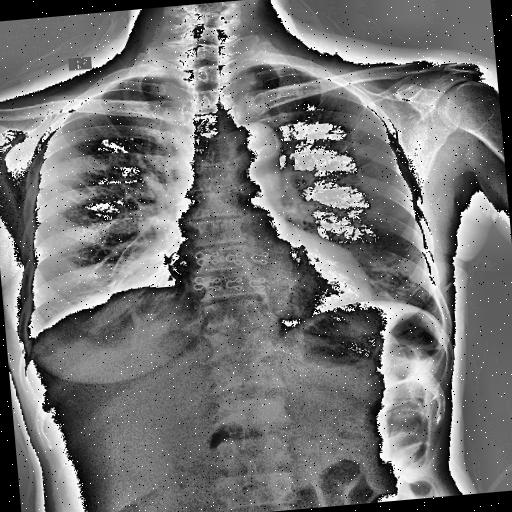0- Aortic enlargement: (220, 121, 284, 188), (220, 123, 282, 182), (230, 120, 283, 166)
13- Pulmonary fibrosis: (95, 237, 184, 322)
7- Lung Opacity: (88, 251, 174, 328)
